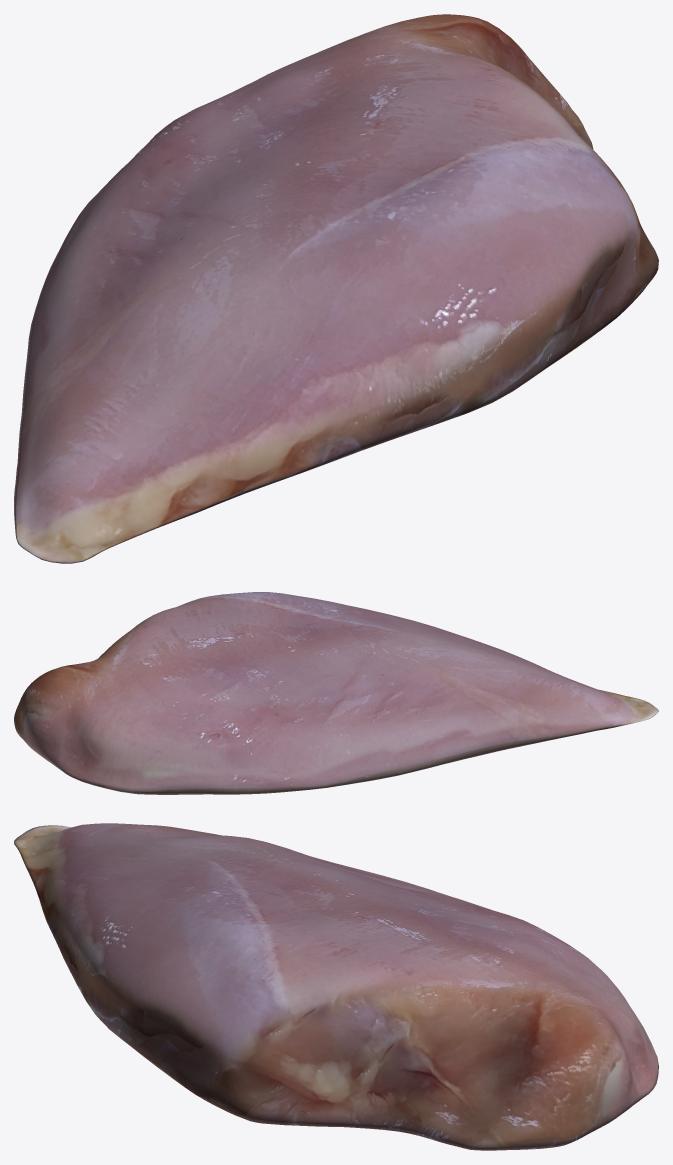
Rendered from Breast.glb.
3 views of the same model, one above another, from view 1: azimuth 30°, elevation 25°; view 2: azimuth 150°, elevation 25°; view 3: azimuth 270°, elevation 25° (orthographic). The views are drawn at different scales.
Visible parts, largest first — view 1: _gltfNode_0; view 2: _gltfNode_0; view 3: _gltfNode_0.
Part boxes in pixels (x1=…): _gltfNode_0: x1=14, y1=14, x2=658, y2=563; _gltfNode_0: x1=14, y1=592, x2=658, y2=794; _gltfNode_0: x1=14, y1=823, x2=658, y2=1150.
Size of the model in its own units: 1.31 by 0.3025 by 1.07.
Materials: 1 (1 with a texture image).
